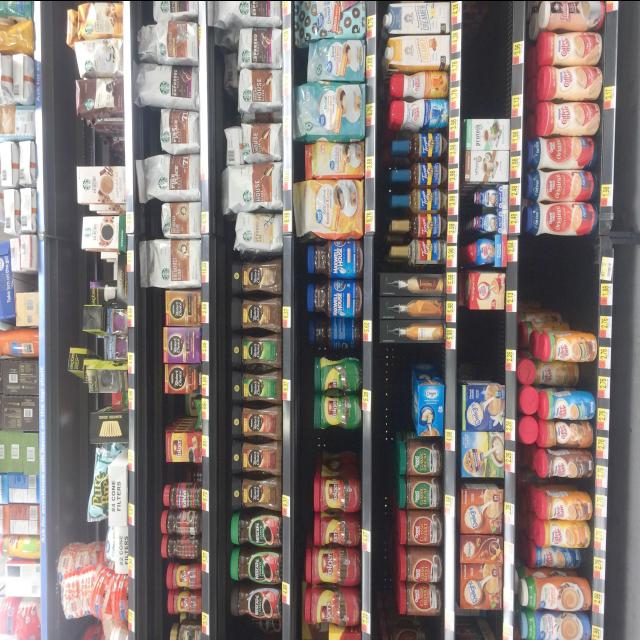empty_space: (466, 0, 510, 116), (528, 237, 596, 311), (459, 310, 505, 378), (316, 429, 360, 479), (456, 608, 504, 635), (400, 613, 445, 638), (415, 346, 441, 378), (85, 140, 125, 160), (169, 461, 201, 485), (232, 622, 276, 638), (170, 401, 194, 423)
